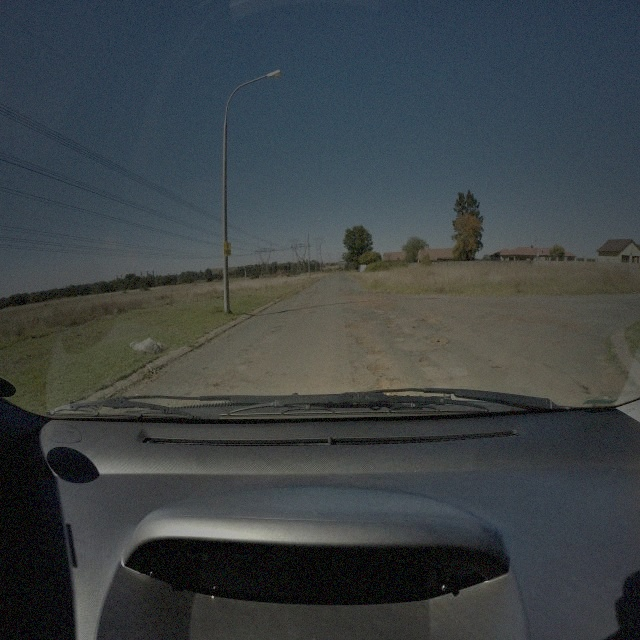pothole: (372, 374, 404, 395), (423, 334, 449, 348), (367, 361, 389, 377), (210, 376, 229, 388), (356, 335, 374, 346), (346, 322, 367, 331), (421, 315, 439, 325), (386, 317, 394, 328), (419, 357, 430, 363), (274, 322, 283, 328), (389, 330, 397, 336)
